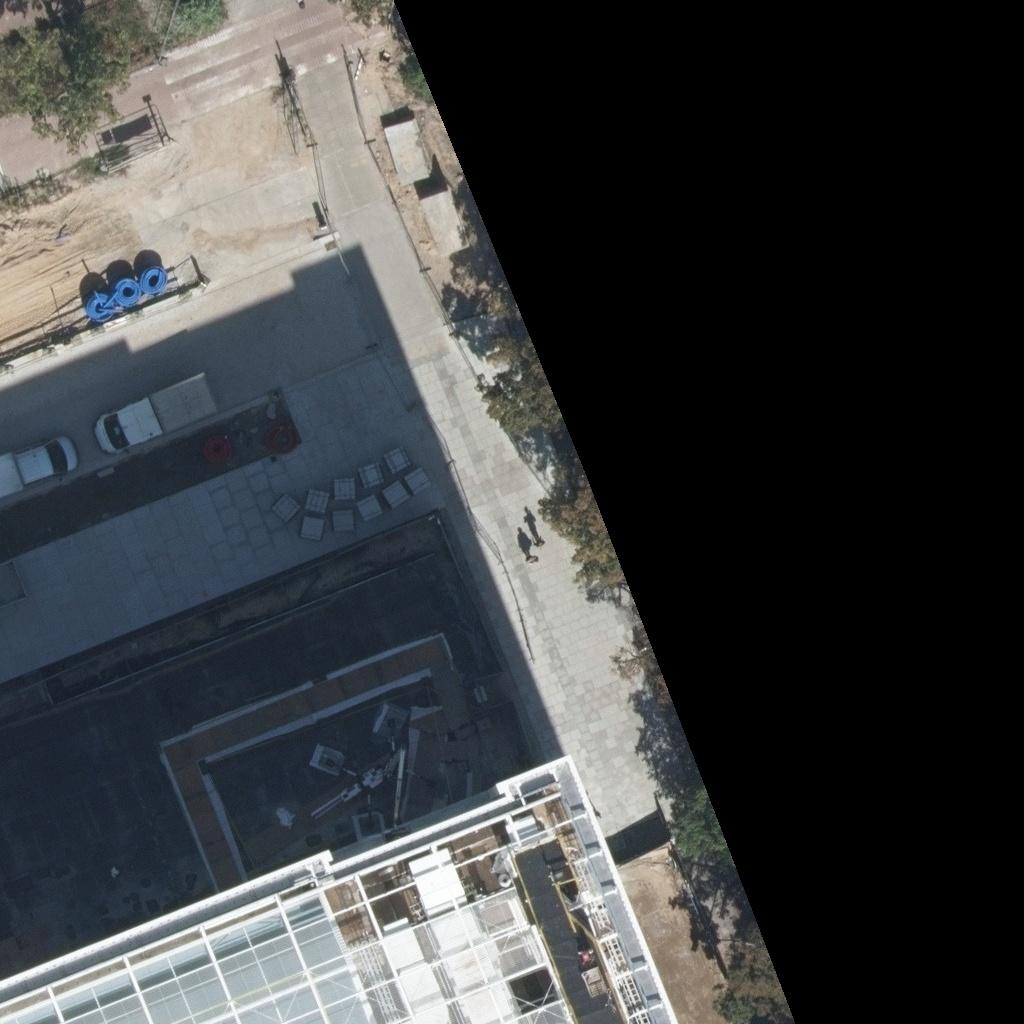bus: (94, 373, 217, 453), (0, 436, 78, 498)
